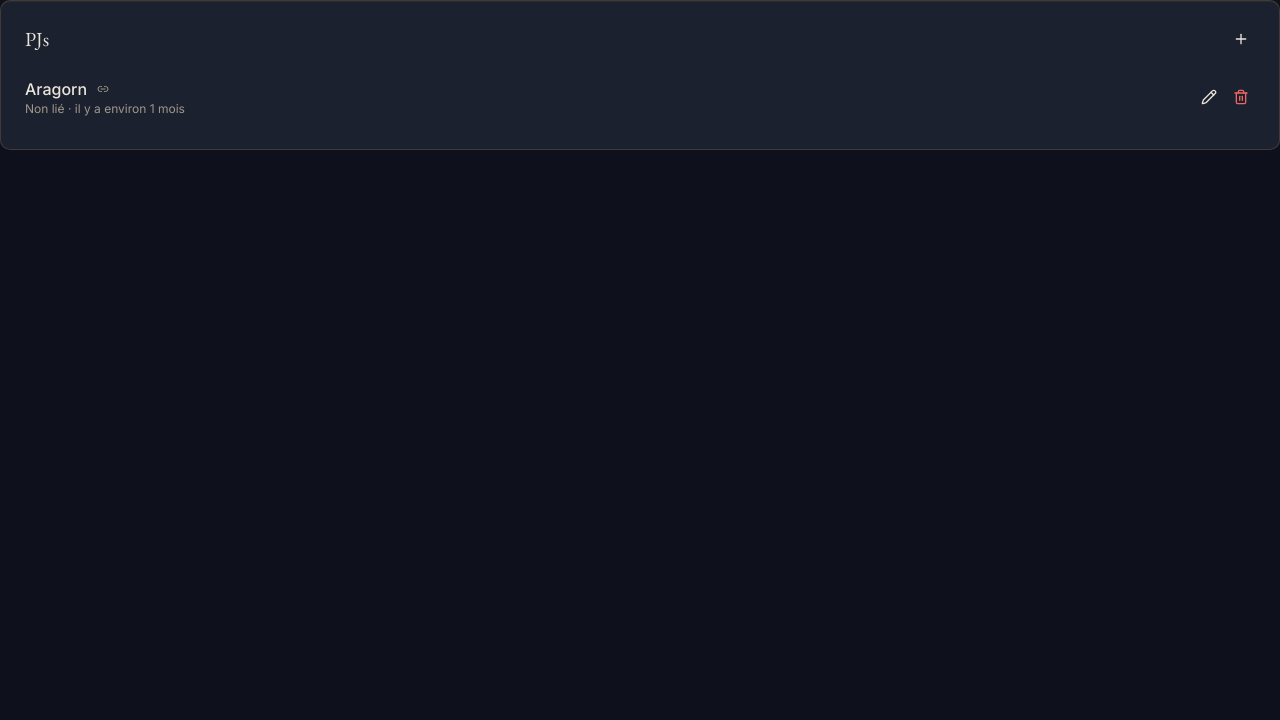
Test: <CampaignPjsCard> › submitting the edit dialog PATCHes the PJ and closes
Click the button named "Éditer le PJ Aragorn": point(1209, 97) [1195,83,1223,111]
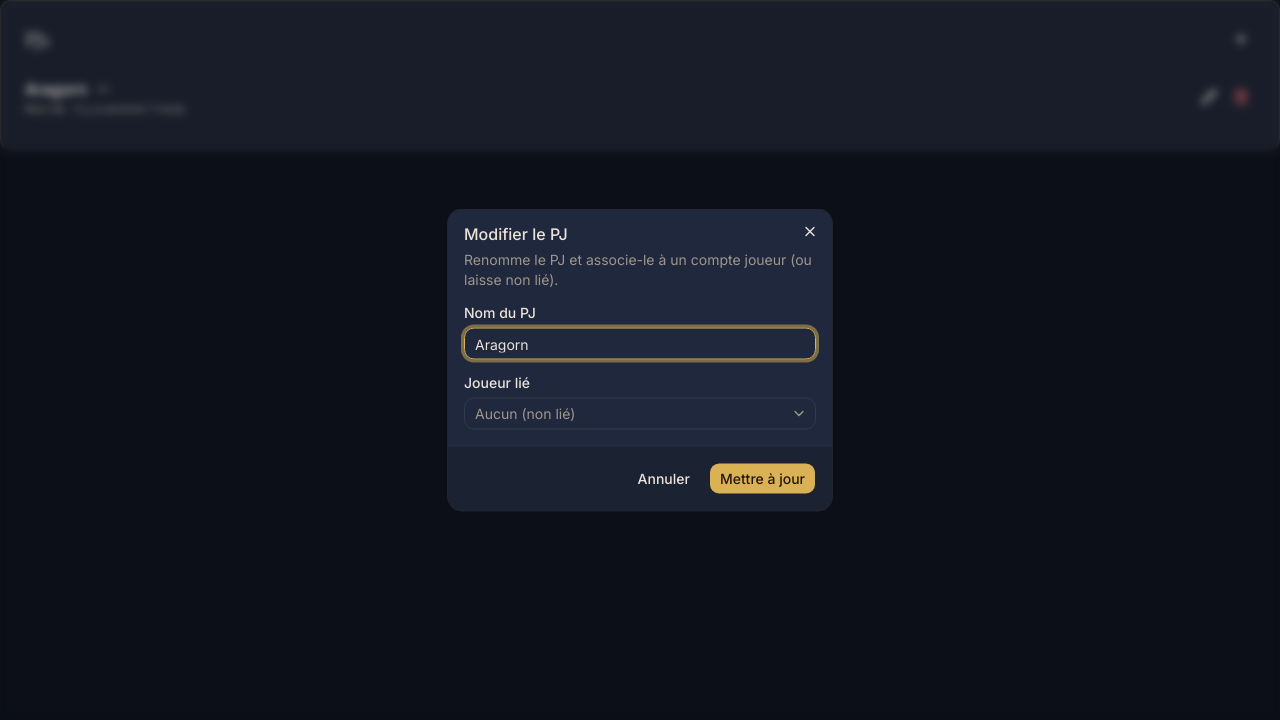
Check: the heading "Modifier le PJ" is shown, box [464,224,568,244]
Click the dropdown named "Joueur lié": point(525, 413) [464,398,816,430]
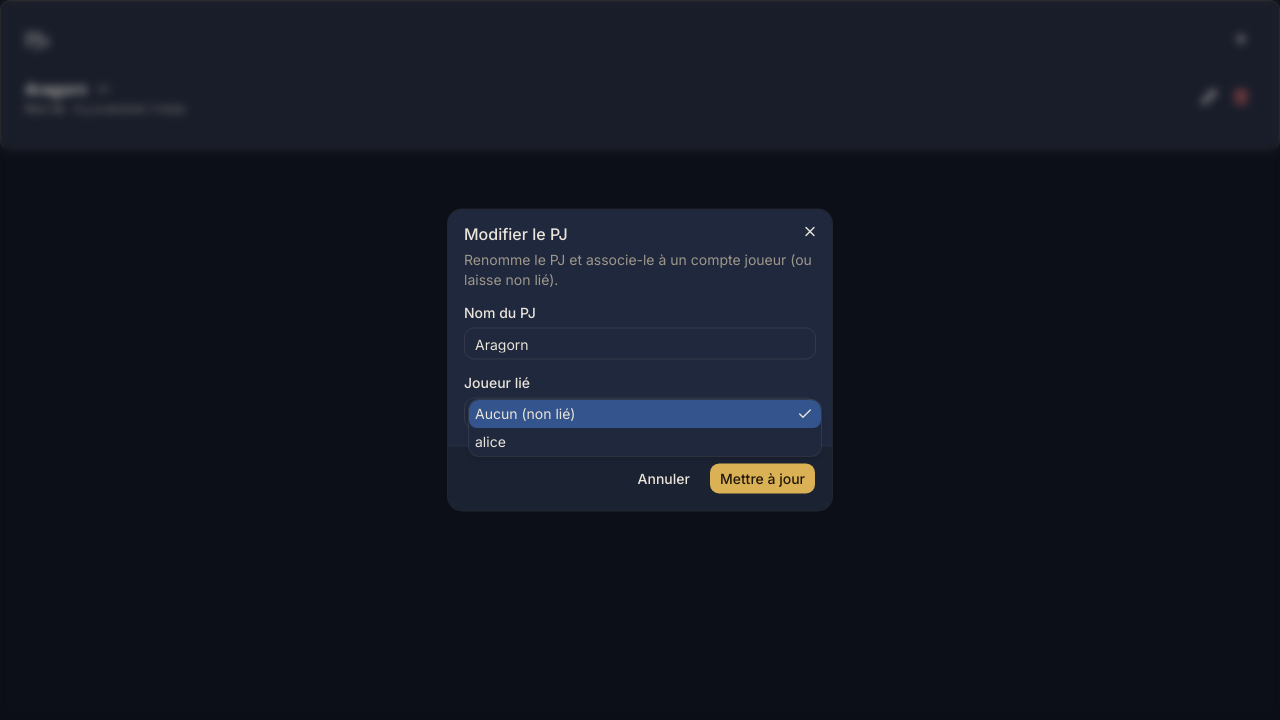
Click the option "alice": point(490, 441) [475,432,506,450]
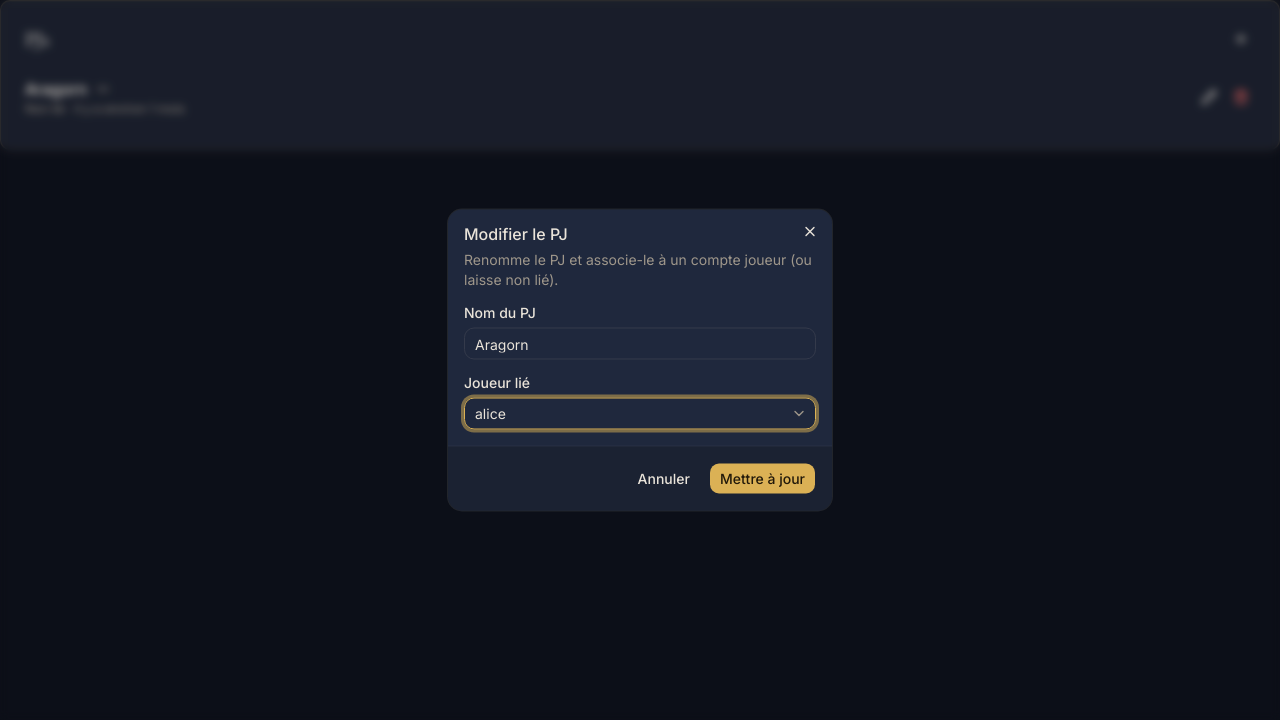
Click the button "Mettre à jour": point(762, 478) [709,462,816,494]
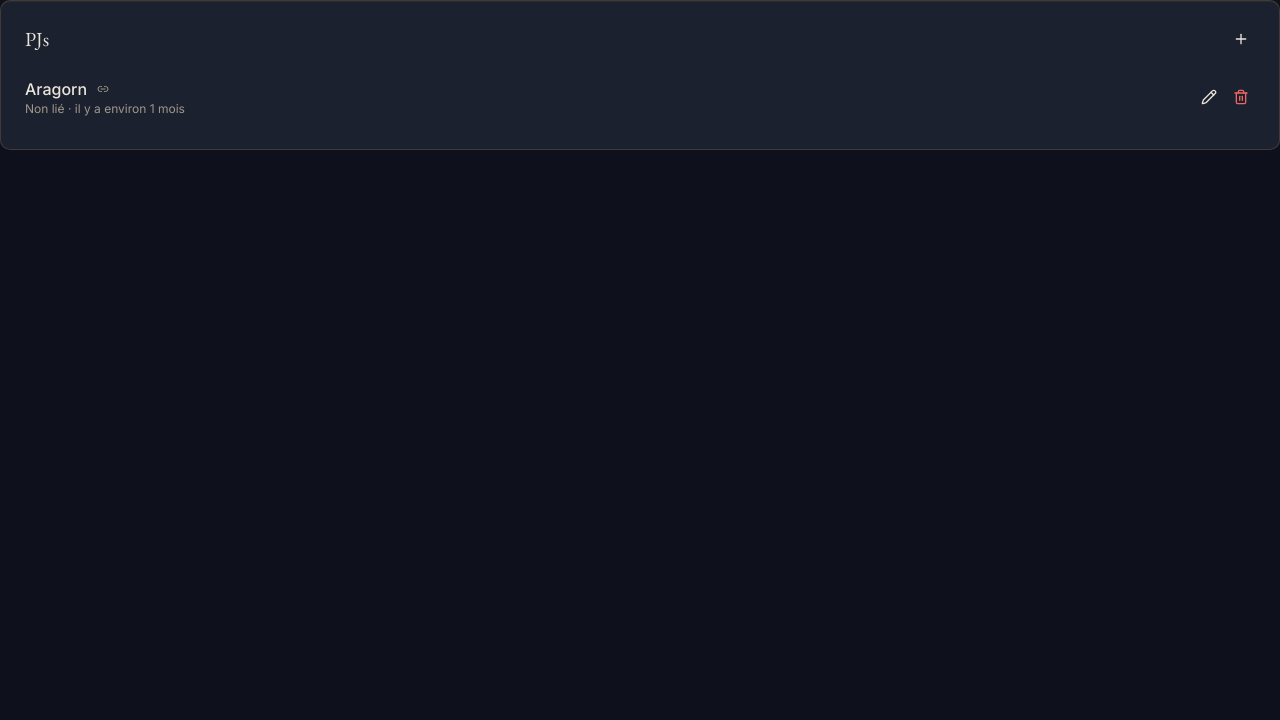
Check: the heading "Modifier le PJ" is gone
